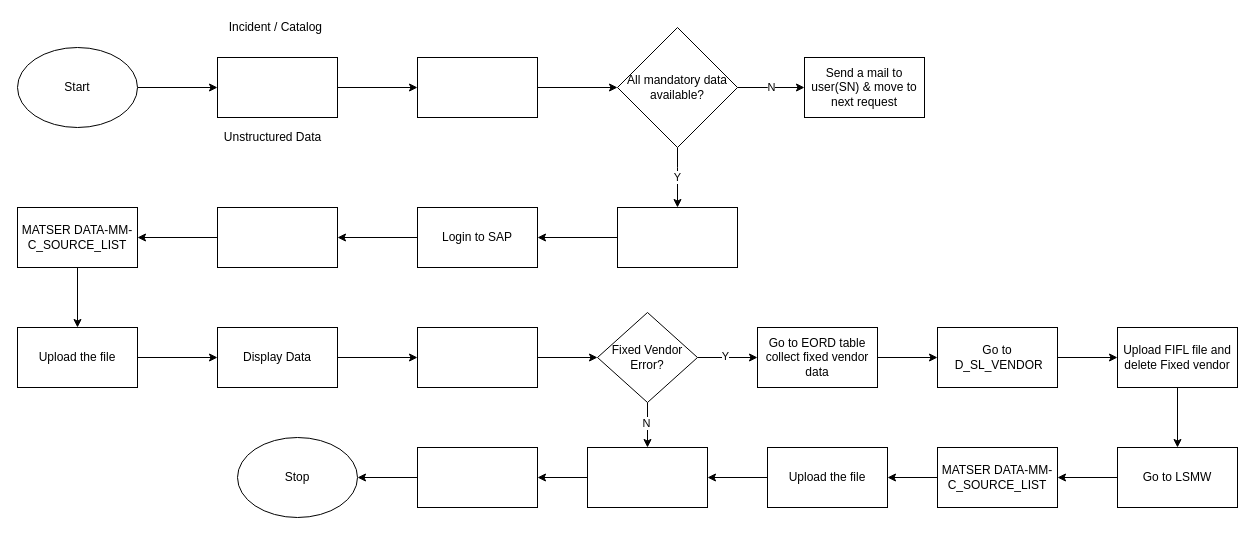
This 1255x535 diagram has some shape labels left out. Here are the shapes that lost their labels. From the top down, the centre of each, then its label:
(277,87): Access SN. Go to MDM pool. Read the ticket. Collect the attached file
(477,87): Verify the attached LSMW document
(277,237): Go to MM17
(677,237): Format all data field as per the defined standard
(477,357): Ad hoc creation
(477,477): Update the SN. Change the status to Complete
(647,477): Complete the execution
